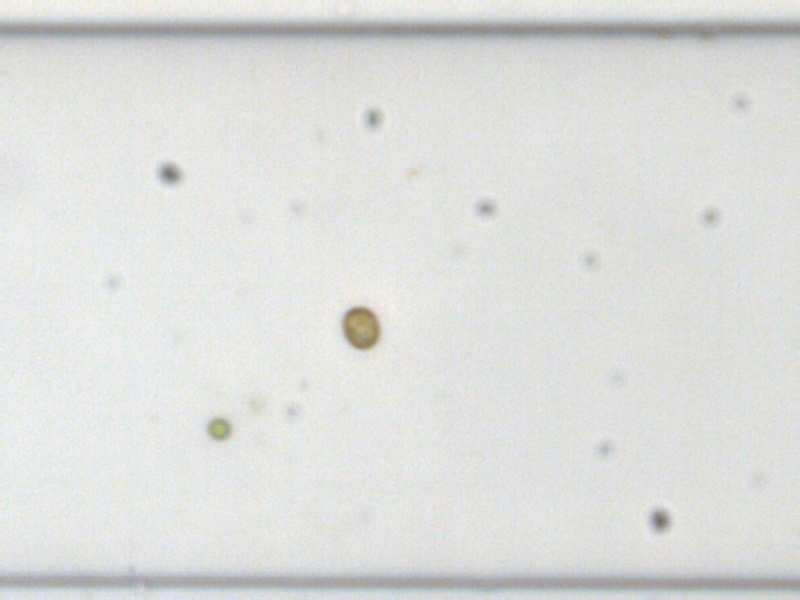Chlorella: (207, 417, 231, 437)
Effrenium: (338, 304, 381, 352)
